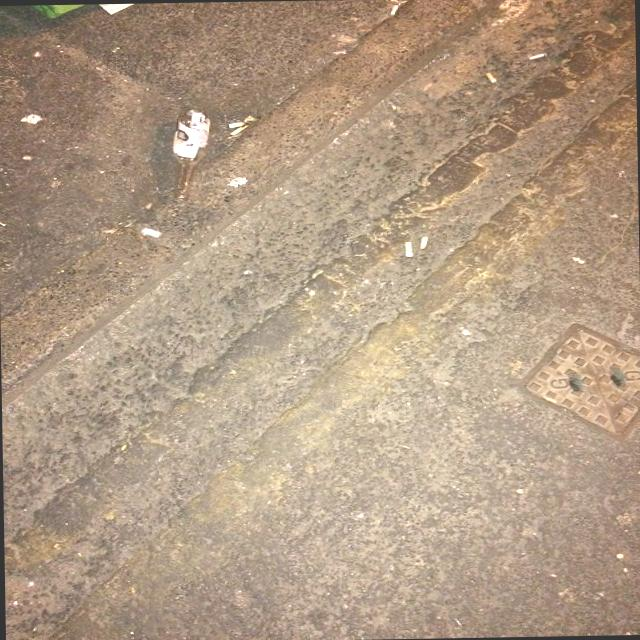Trash: (165, 104, 212, 205)
